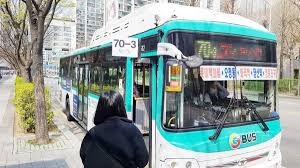bnum: (194, 39, 218, 59)
